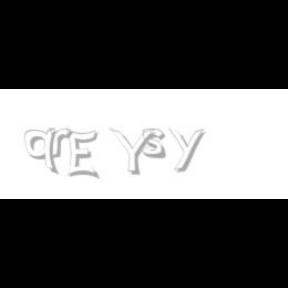E: (66, 128, 98, 180)
Y: (109, 128, 155, 176)
q: (24, 128, 60, 176)
r: (48, 128, 76, 158)
s: (142, 128, 170, 160)
y: (168, 128, 208, 172)
